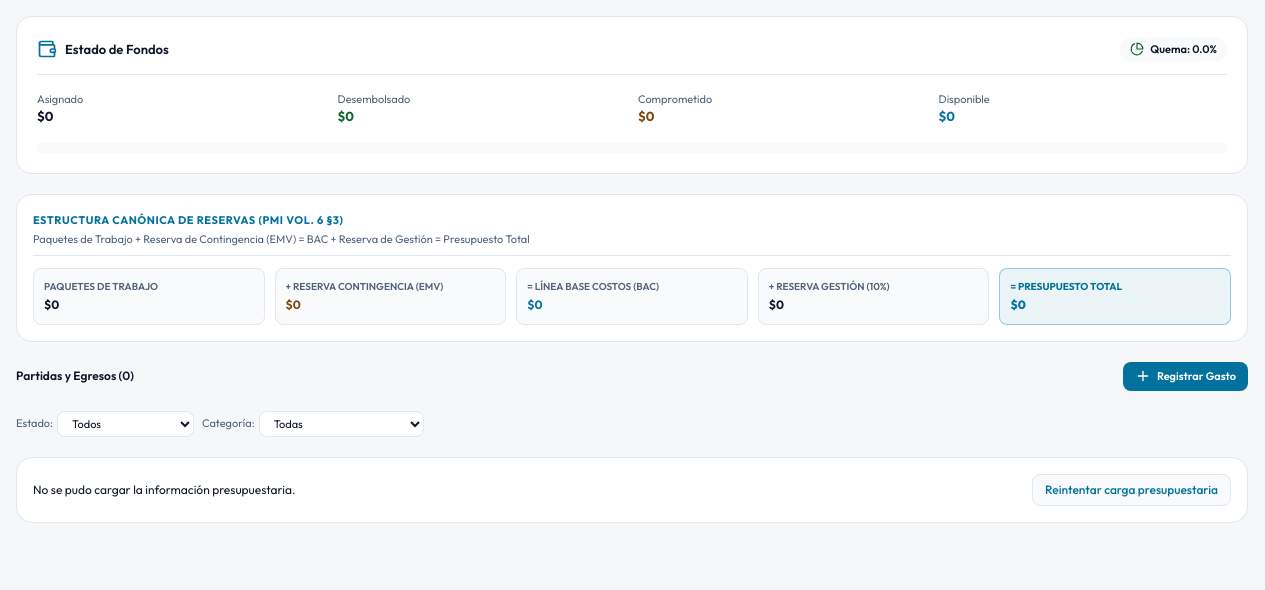
Test case: ProjectBudgetDrawer › keeps a failed load distinct from the empty state and retries
Expected: the message shows "No se pudo cargar la información presupuestaria.", [33,482,296,496]
Click the button "Reintentar carga presupuestaria".
click(1132, 490)  # box [1032,474,1231,506]
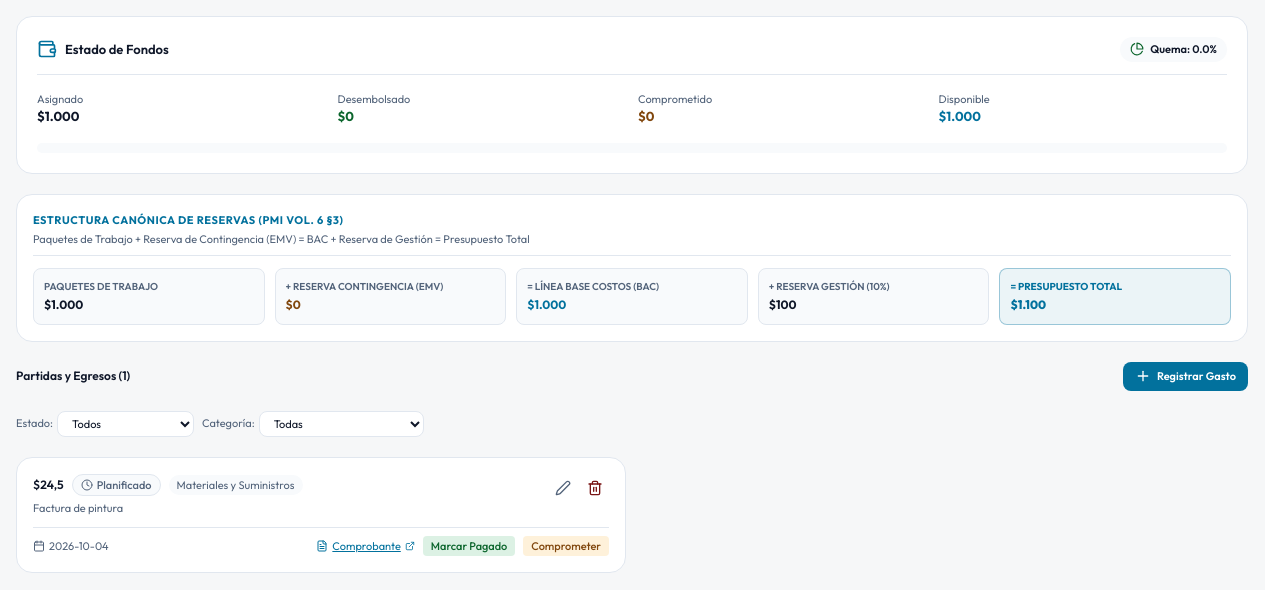
Now the text "Factura de pintura" is shown, box [33,501,123,515]
Now the message is gone
